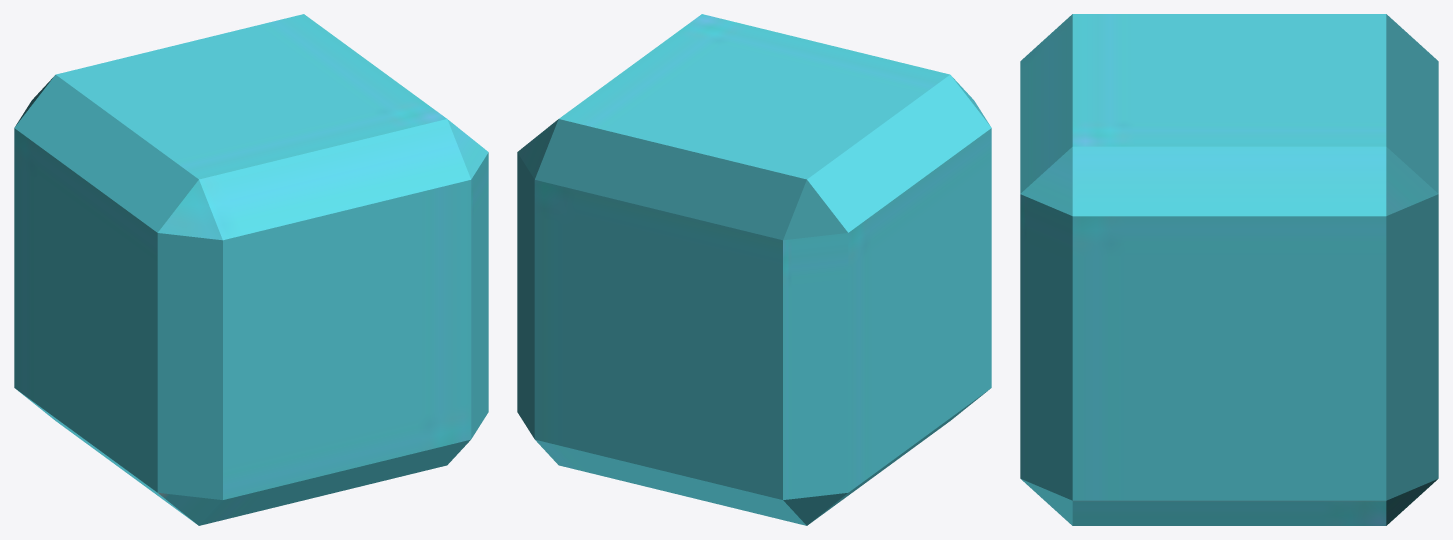
3 views of the same model, side by side, from view 1: azimuth 30°, elevation 25°; view 2: azimuth 150°, elevation 25°; view 3: azimuth 270°, elevation 25° (orthographic). The views are drawn at different scales.
Parts seen in each view (by area): view 1: brick; view 2: brick; view 3: brick.
Part boxes in pixels (bbox=[...]): brick: bbox=[14, 14, 488, 525]; brick: bbox=[517, 14, 991, 525]; brick: bbox=[1020, 14, 1438, 525].
Size of the model in its own units: 100 by 100 by 100.
1 material, 1 textured.
